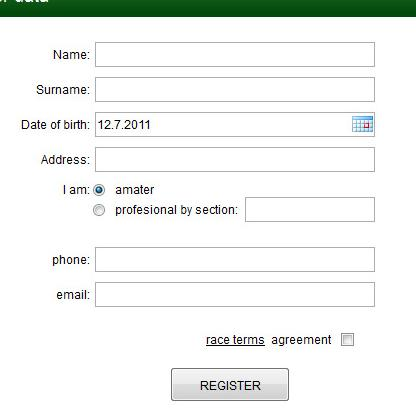button: (168, 367, 290, 402)
checkbox: (336, 330, 359, 348)
checkbox_with_label: (205, 328, 362, 350)
field: (90, 145, 376, 173), (92, 245, 376, 273), (91, 280, 375, 308), (93, 76, 376, 103), (93, 111, 375, 138), (94, 42, 375, 67), (242, 196, 375, 223)
field_with_label: (41, 143, 378, 175), (22, 110, 377, 139), (58, 278, 377, 310), (53, 243, 377, 274), (35, 75, 377, 104), (53, 40, 376, 69), (113, 196, 377, 225)
radio: (92, 201, 108, 220), (92, 182, 109, 197)
radio_with_label: (89, 199, 234, 223), (88, 181, 155, 200)
